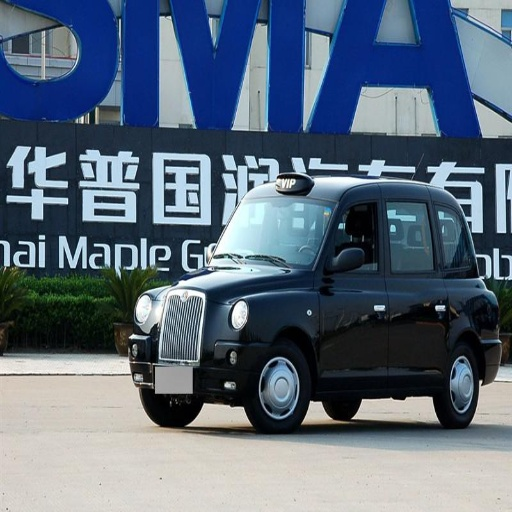back_glass: (350, 2, 424, 84)
front_glass: (223, 193, 333, 267)
trunk: (142, 283, 265, 373)
